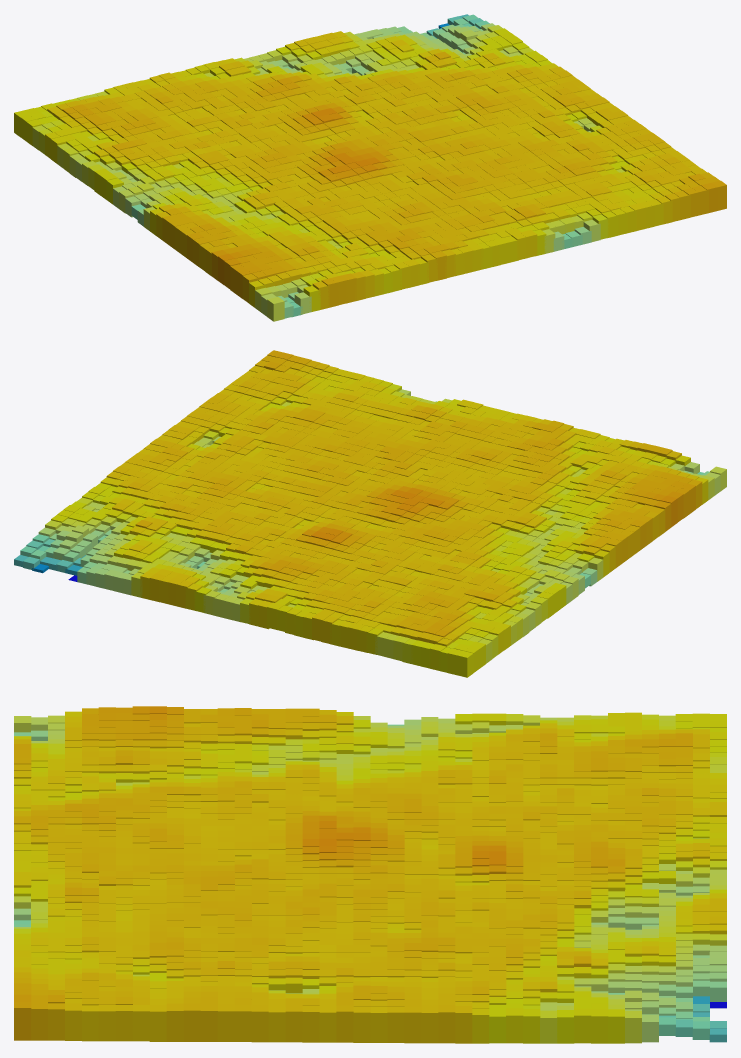
Rendered from population.glb.
3 views of the same model, one above another, from view 1: azimuth 30°, elevation 25°; view 2: azimuth 150°, elevation 25°; view 3: azimuth 270°, elevation 25° (orthographic). The views are drawn at different scales.
Parts seen in each view (by area): view 1: population; view 2: population; view 3: population.
Part boxes in pixels (<box>): population: <box>14,14,726,321</box>; population: <box>14,350,726,677</box>; population: <box>14,706,726,1043</box>.
Bounding box in the file's own units: 4176 × 241 × 4140.
